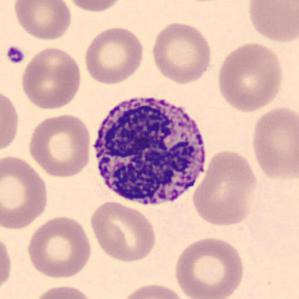Basophil: (86, 88, 211, 213)
Platelets: (4, 44, 26, 65)
RBC: (190, 148, 260, 228), (214, 40, 286, 113), (172, 233, 247, 299), (24, 213, 94, 280), (87, 199, 159, 264), (26, 111, 93, 179), (19, 44, 84, 111), (149, 20, 215, 85), (0, 152, 50, 231), (248, 104, 298, 183), (82, 24, 146, 85), (11, 0, 73, 41), (244, 0, 298, 44), (0, 86, 21, 155), (118, 281, 188, 299), (31, 283, 97, 299), (0, 230, 14, 298), (63, 0, 127, 14)
